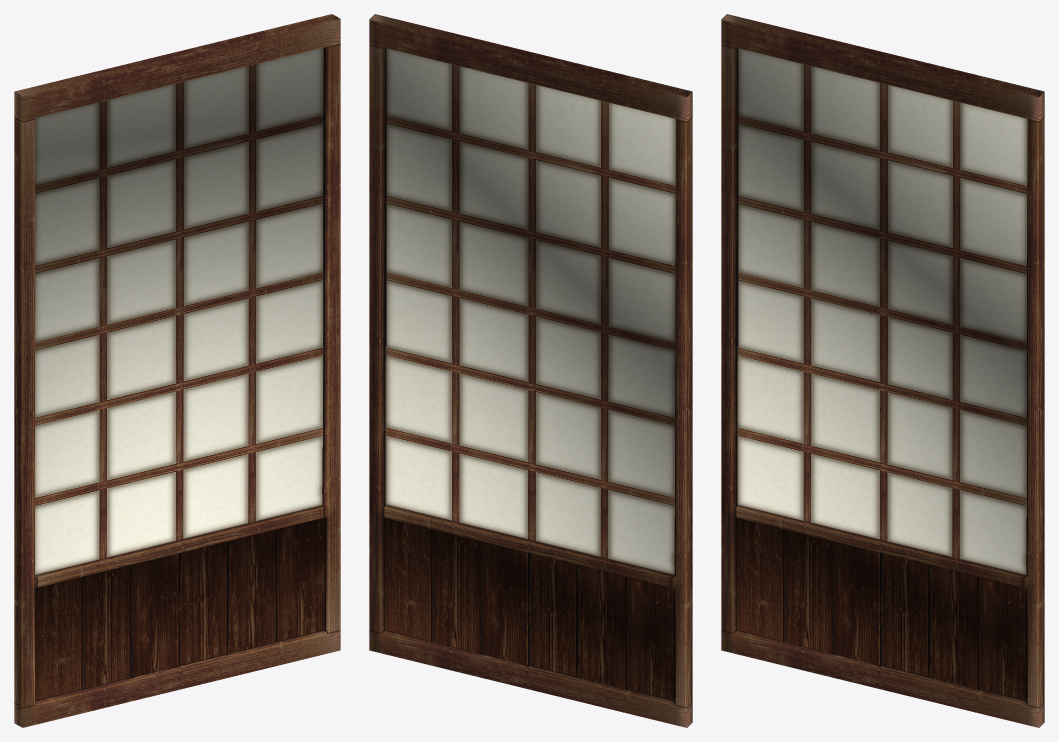
File: dh_slidingdoor.FBX
3 views of the same model, side by side, from view 1: azimuth 30°, elevation 25°; view 2: azimuth 150°, elevation 25°; view 3: azimuth 330°, elevation 25° (orthographic).
Parts seen in each view (by area): view 1: Plane007; view 2: Plane007; view 3: Plane007.
Boxes of the visible parts, bbox=[...] form: Plane007: bbox=[14, 14, 340, 727]; Plane007: bbox=[369, 14, 692, 727]; Plane007: bbox=[721, 14, 1044, 727].
Bounding box in the file's own units: 46.66 × 88.14 × 1.81.
